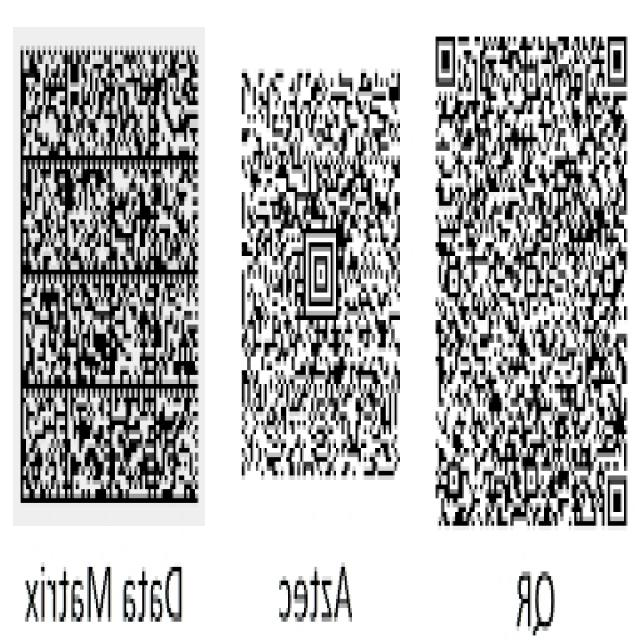DataMatrix: (12, 27, 204, 526)
